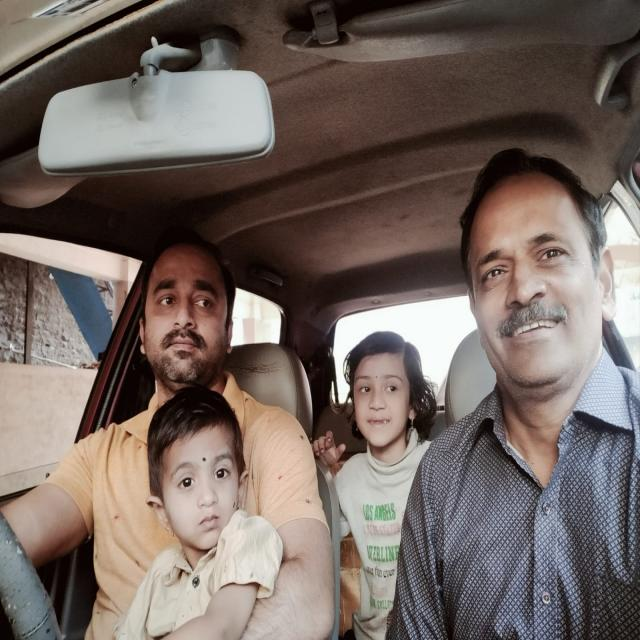child: (150, 408, 257, 544)
person: (452, 163, 620, 389), (134, 234, 238, 385), (346, 334, 420, 448)
